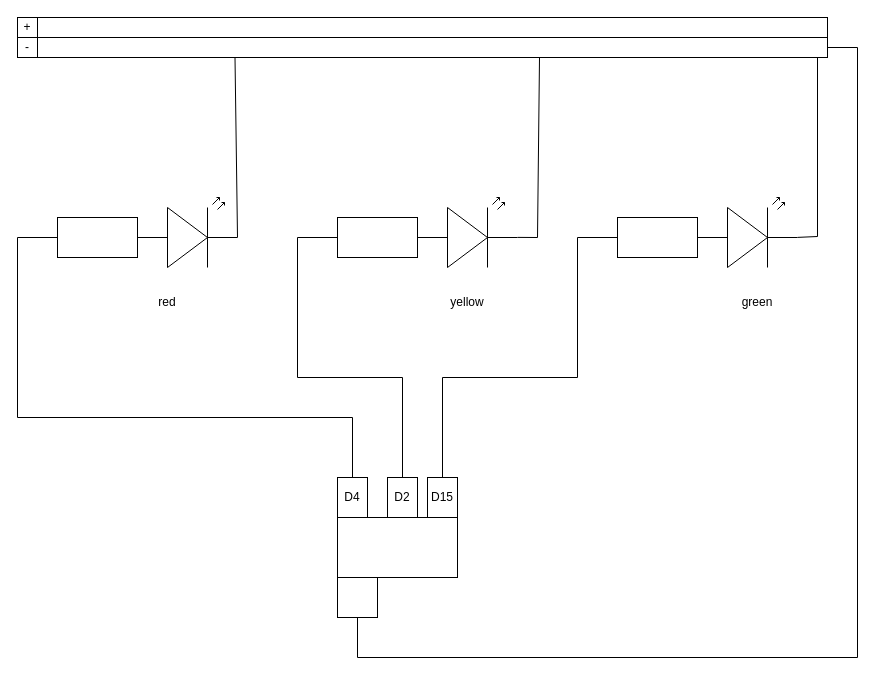
This 876x676 diagram has some shape labels left out. Each missing label, with the centre of its shape:
esp32: the point at 397,547
gnd: the point at 357,597
